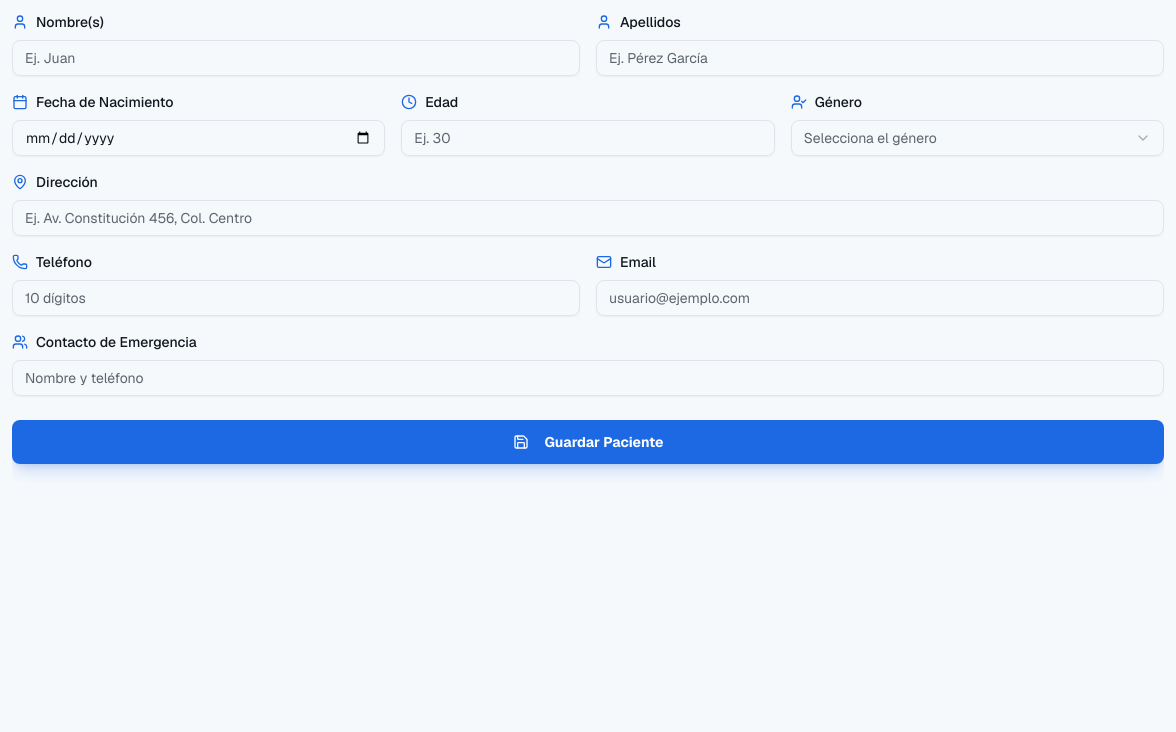
Test: PatientForm › debería mostrar errores de validación si el formulario se envía vacío
Click the button "Guardar Paciente" at (588, 442), box [12,420,1164,464]
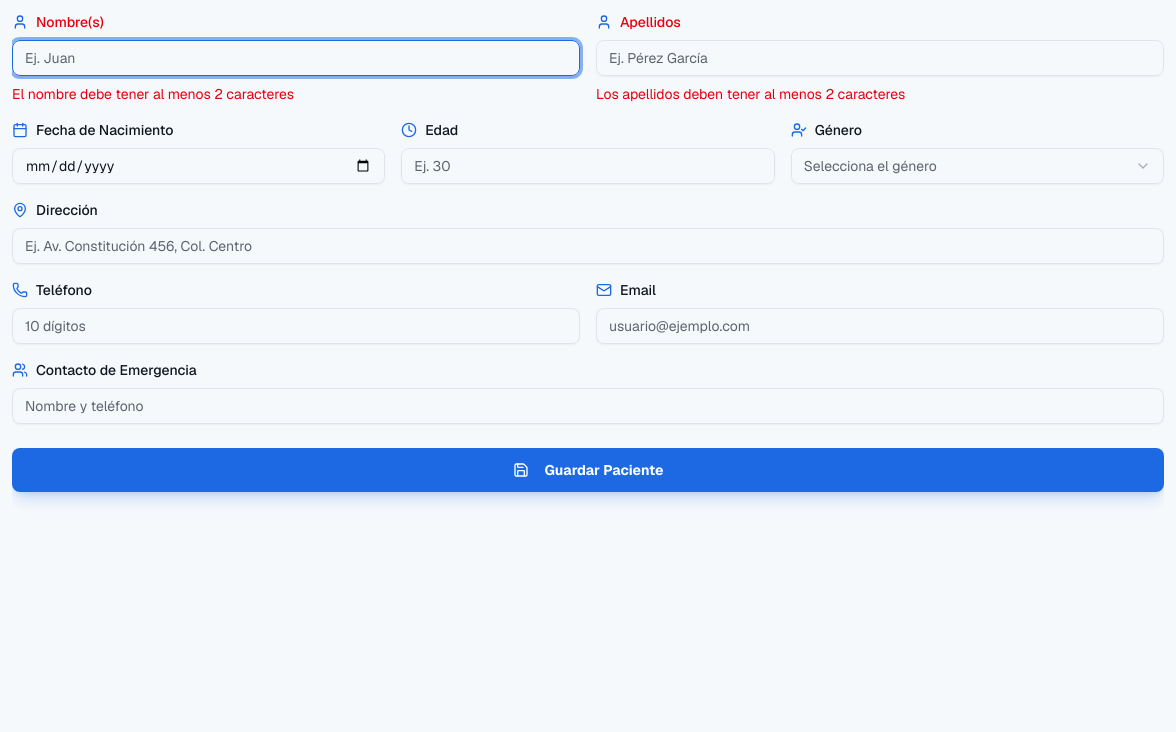
Expected: the text "El nombre debe tener al menos 2 caracteres" is shown, [12,85,294,103]
Expected: the text "Los apellidos deben tener al menos 2 caracteres" is shown, [596,85,905,103]
